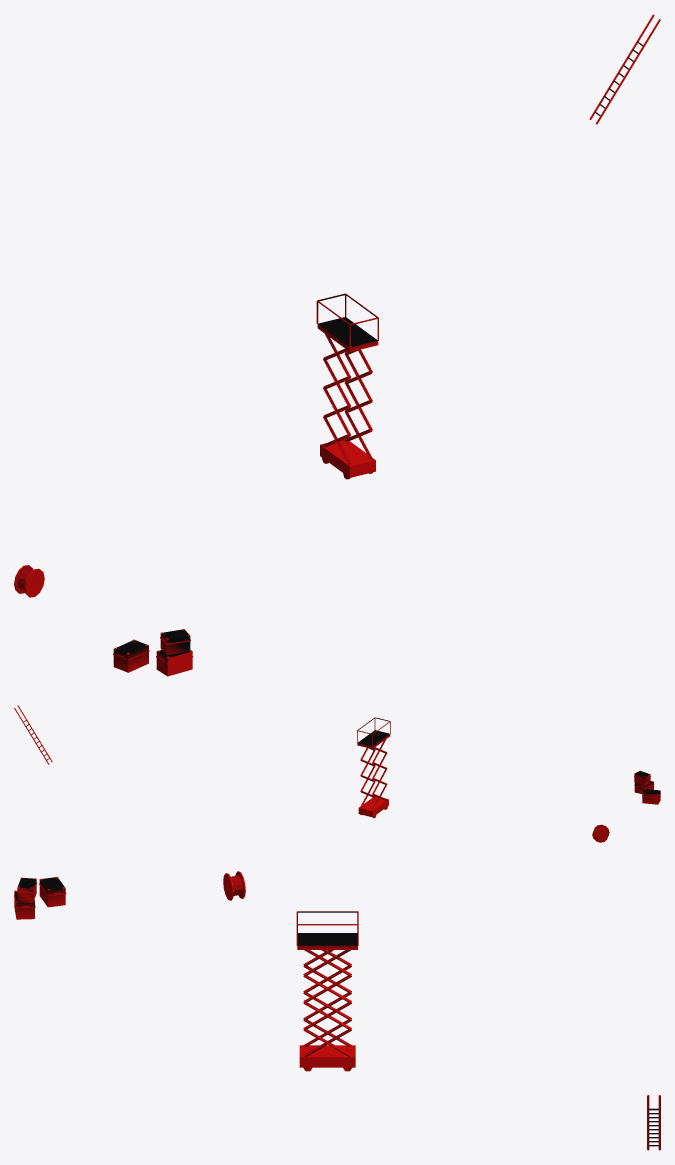
Rendered from classic_props.glb.
3 views of the same model, one above another, from view 1: azimuth 30°, elevation 25°; view 2: azimuth 150°, elevation 25°; view 3: azimuth 270°, elevation 25° (orthographic). The views are drawn at different scales.
Parts seen in each view (by area): view 1: classic_props; view 2: classic_props; view 3: classic_props.
Part boxes in pixels (<box>): classic_props: <box>14,14,660,676</box>; classic_props: <box>14,705,660,842</box>; classic_props: <box>14,871,660,1150</box>.
Size of the model in its own units: 40.04 by 9.05 by 27.76.
